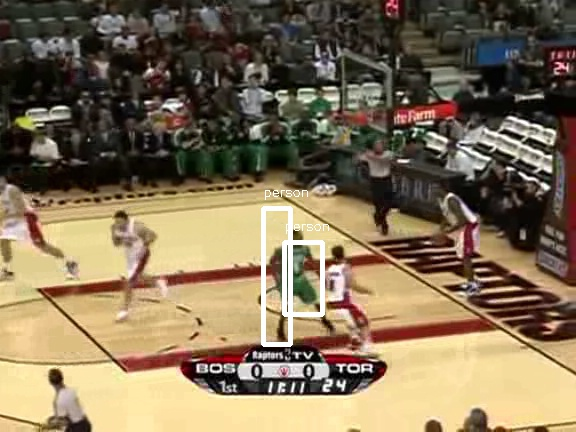person: (279, 235, 313, 316), (278, 235, 312, 316), (280, 235, 314, 316), (279, 234, 313, 315), (279, 236, 313, 317)
target_negative: (427, 337, 560, 398), (55, 372, 159, 425), (247, 213, 479, 227), (364, 397, 415, 422), (548, 253, 550, 428)
